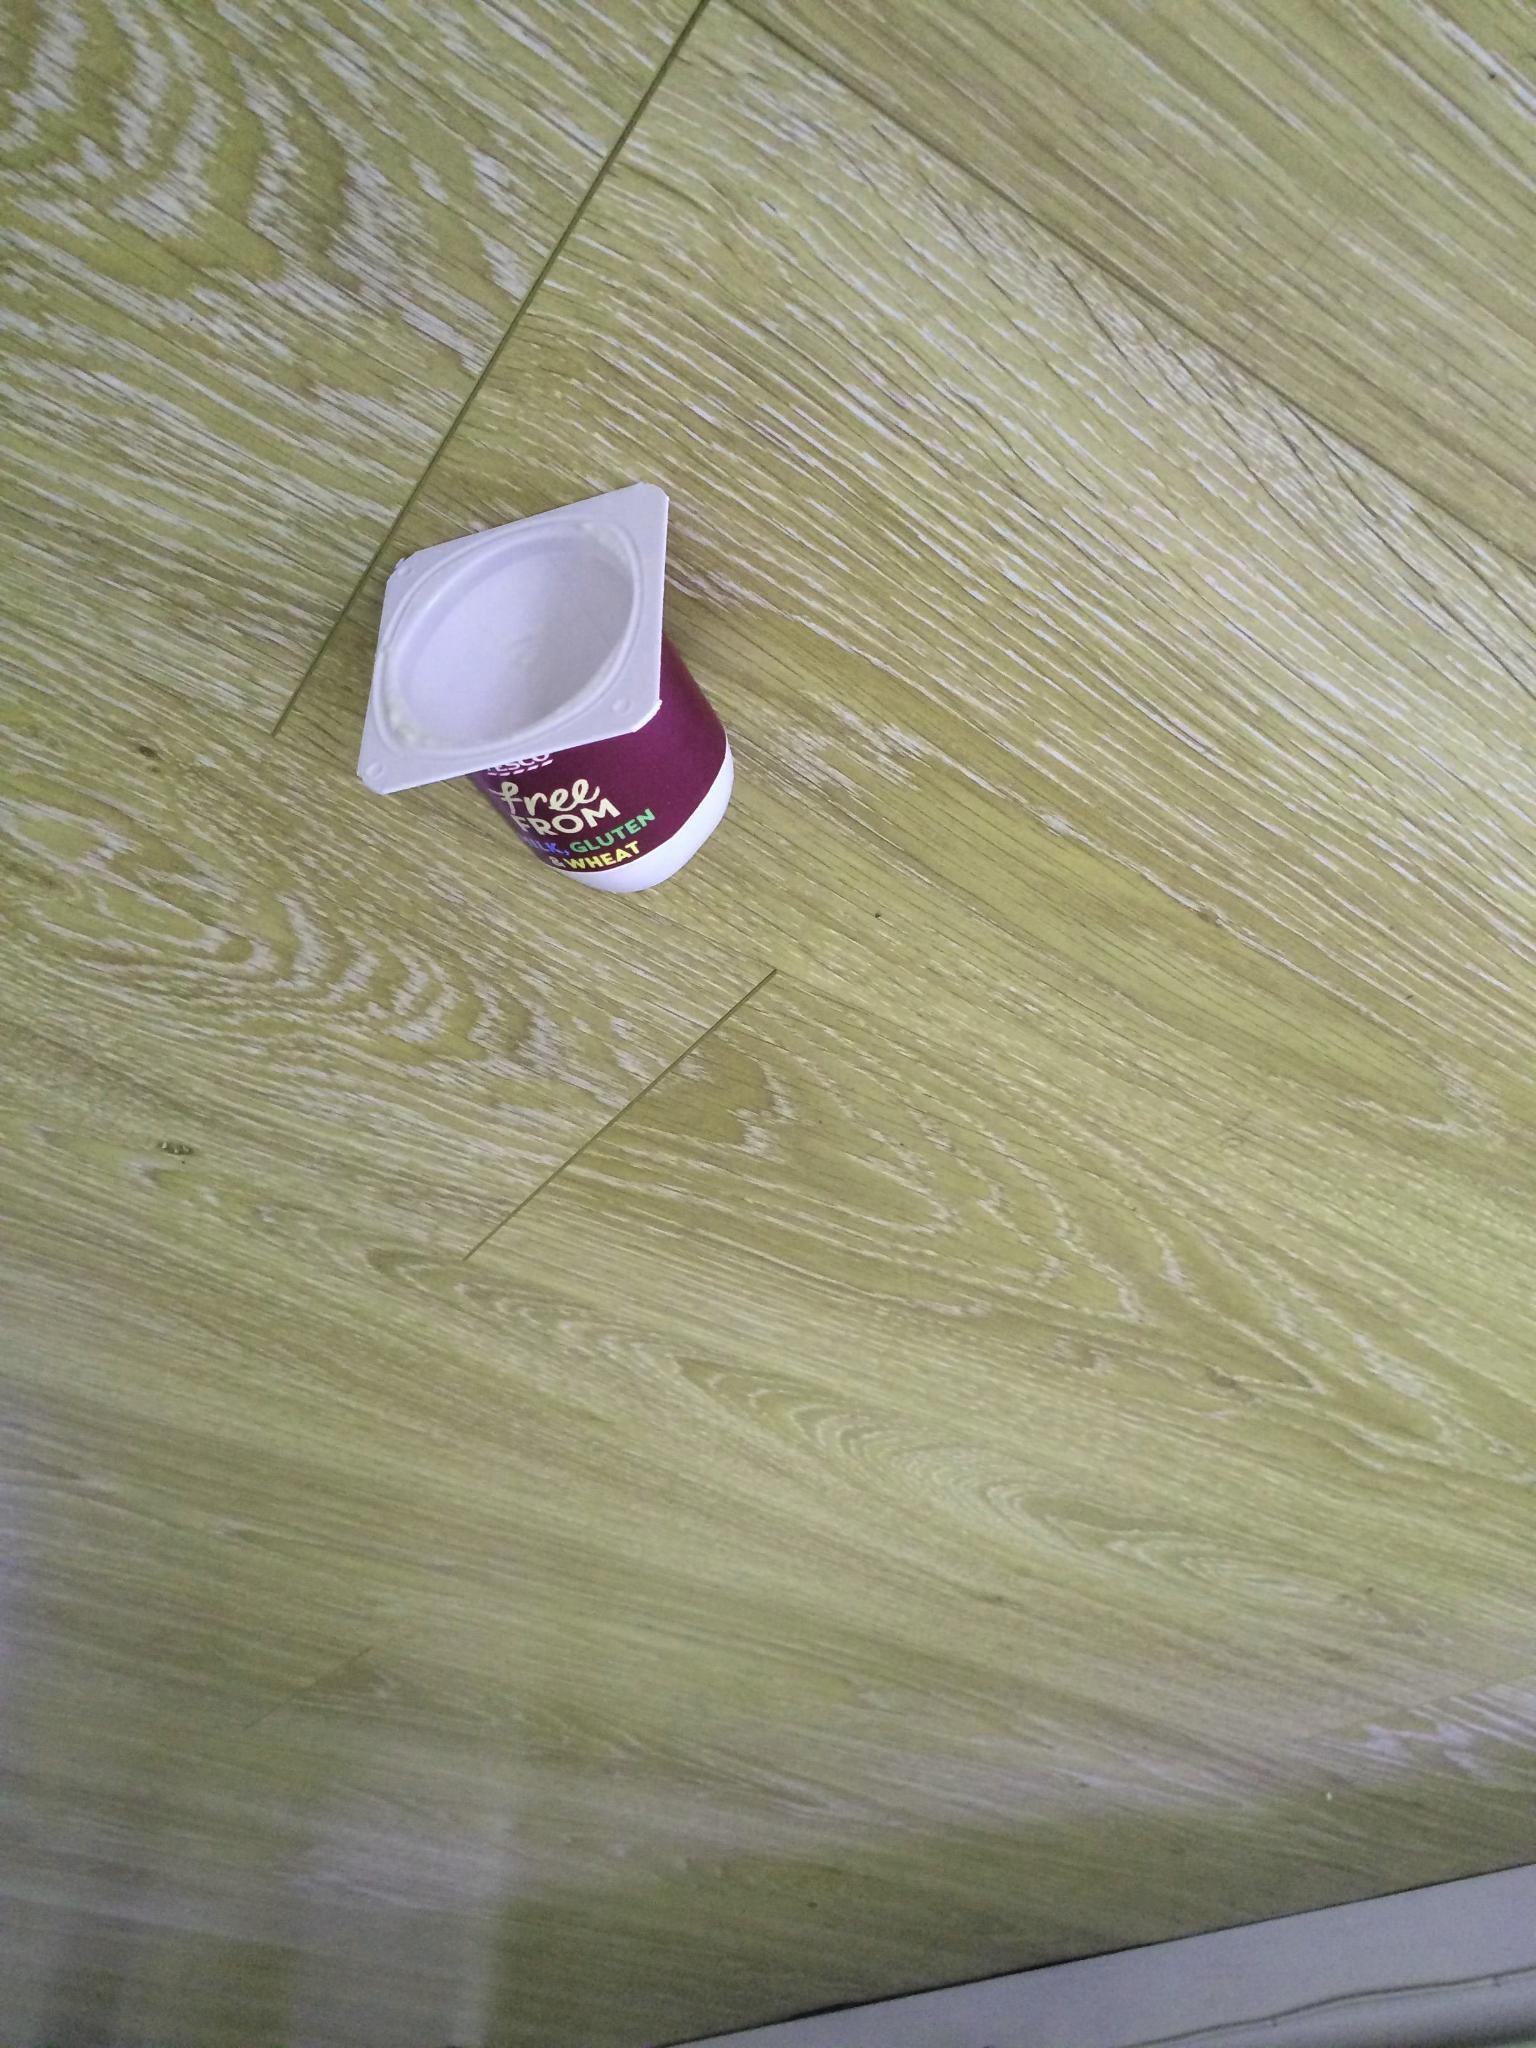Plastic: (331, 461, 750, 914)
